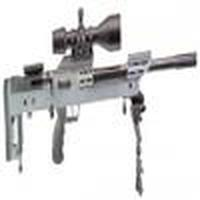gun: (5, 16, 196, 164)
